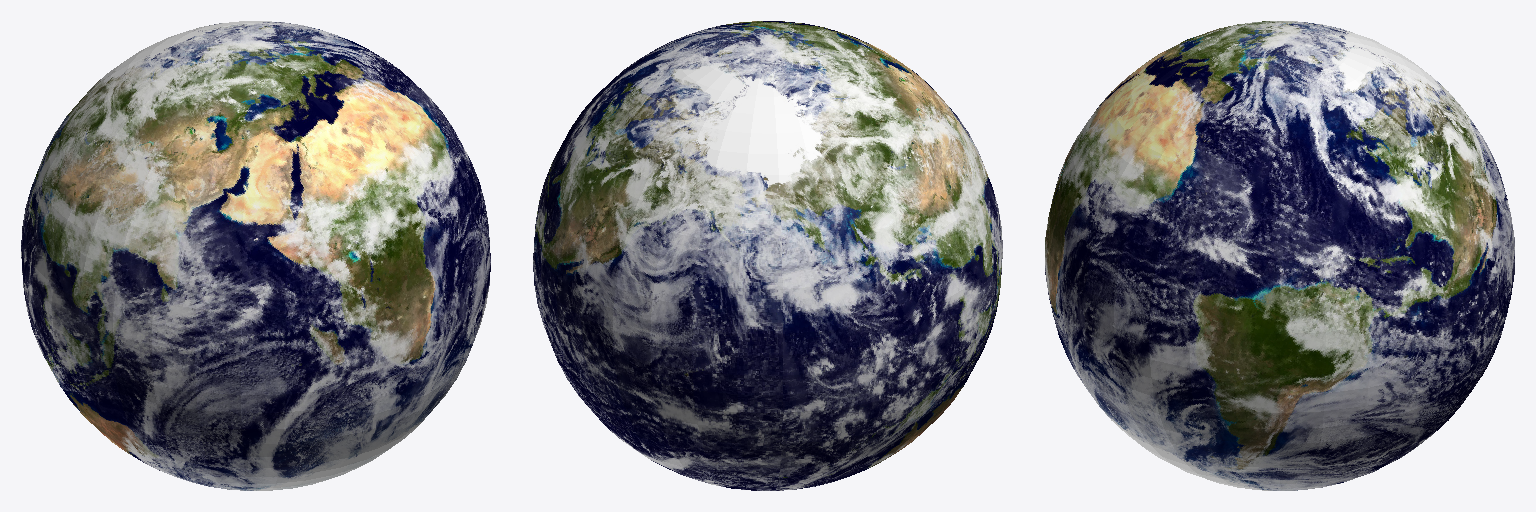
The picture shows the model from 3 angles: view 1: azimuth 30°, elevation 25°; view 2: azimuth 150°, elevation 25°; view 3: azimuth 270°, elevation 25°; orthographic projection.
Parts seen in each view (by area): view 1: Sphere; view 2: Sphere; view 3: Sphere.
Part boxes in pixels (x1,y1,x2,y2): Sphere: (21, 21, 490, 490); Sphere: (533, 21, 1002, 490); Sphere: (1045, 21, 1514, 490).
Size of the model in its own units: 2 by 2 by 2.
Materials: 1 (1 with a texture image).